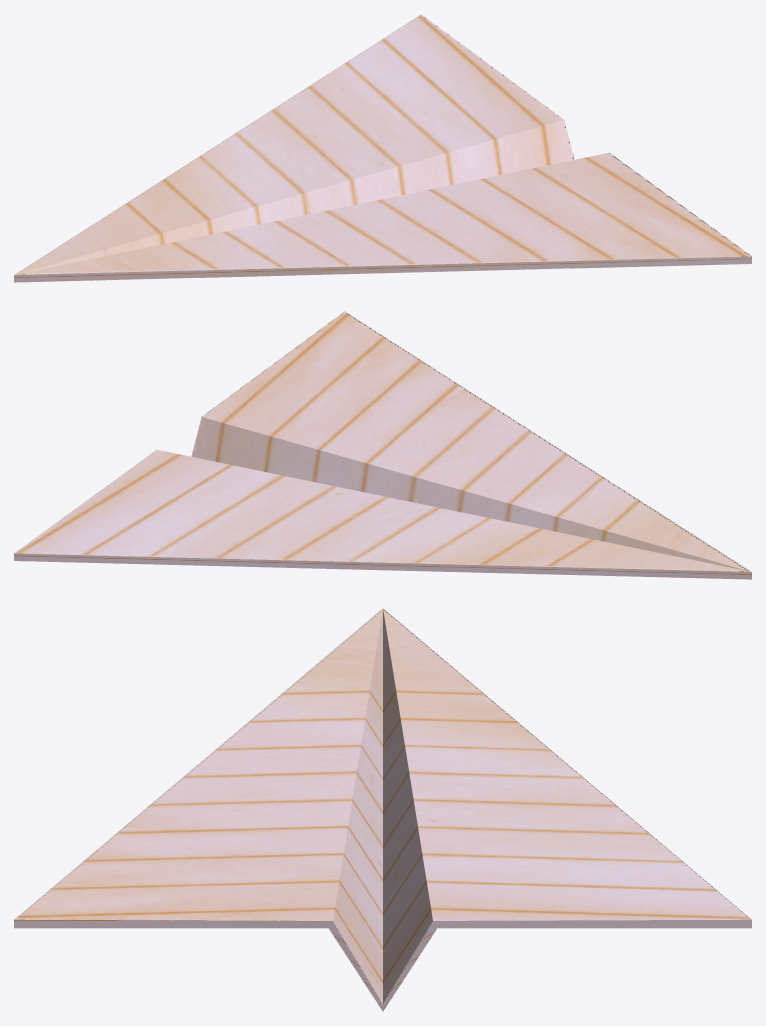
File: Paperplane_orange.FBX
The picture shows the model from 3 angles, top to bottom: view 1: azimuth 30°, elevation 25°; view 2: azimuth 150°, elevation 25°; view 3: azimuth 270°, elevation 25°; orthographic projection. The views are drawn at different scales.
Parts seen in each view (by area): view 1: Paperplane_orange; view 2: Paperplane_orange; view 3: Paperplane_orange.
Boxes of the visible parts, left/top/right/bottom form: Paperplane_orange: left=14, top=14, right=751, bottom=282; Paperplane_orange: left=14, top=311, right=751, bottom=579; Paperplane_orange: left=14, top=608, right=751, bottom=1011.
Size of the model in its own units: 8.22 by 1.13 by 8.21.
Materials: 1 (1 with a texture image).
